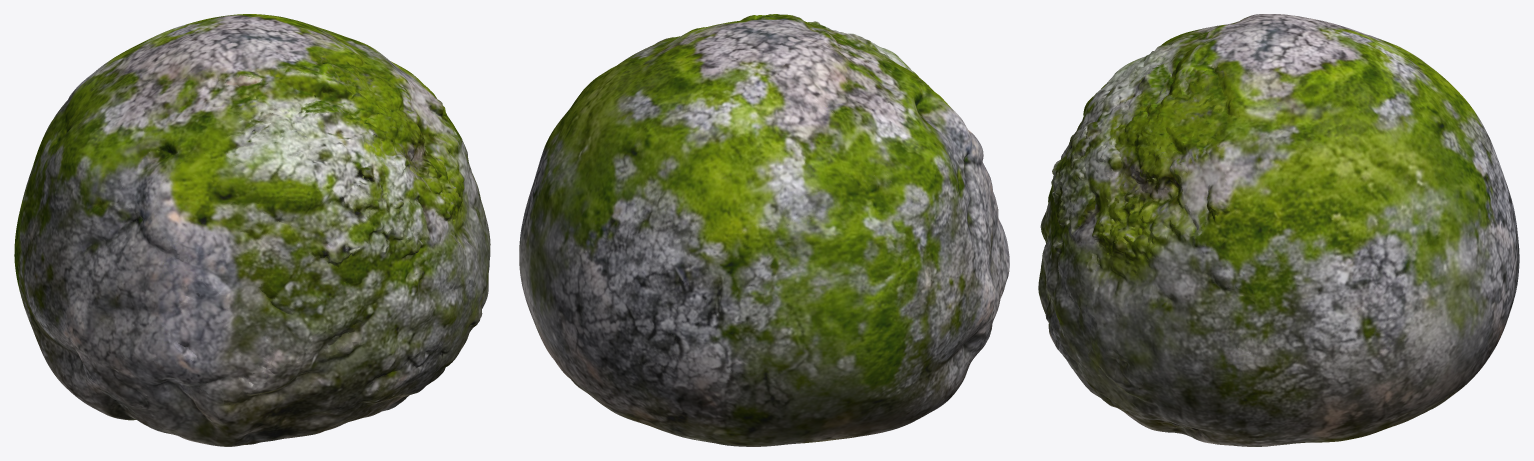
Rendered from r10-wet-mossy-boulder.glb.
3 renders of one model, left to right at view 1: azimuth 30°, elevation 25°; view 2: azimuth 150°, elevation 25°; view 3: azimuth 270°, elevation 25°, orthographic. The views are drawn at different scales.
Parts seen in each view (by area): view 1: geometry_0; view 2: geometry_0; view 3: geometry_0.
Part boxes in pixels (x1,y1,x2,y2): geometry_0: (14,14,490,446); geometry_0: (519,14,1009,446); geometry_0: (1038,14,1519,446).
Size of the model in its own units: 14745 by 12101 by 14731.
1 material, 1 textured.
